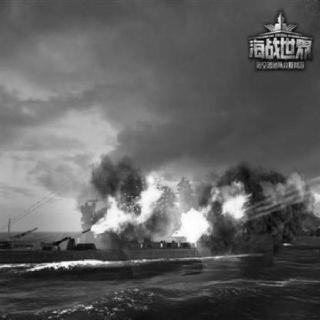Fire: (83, 152, 313, 252)
